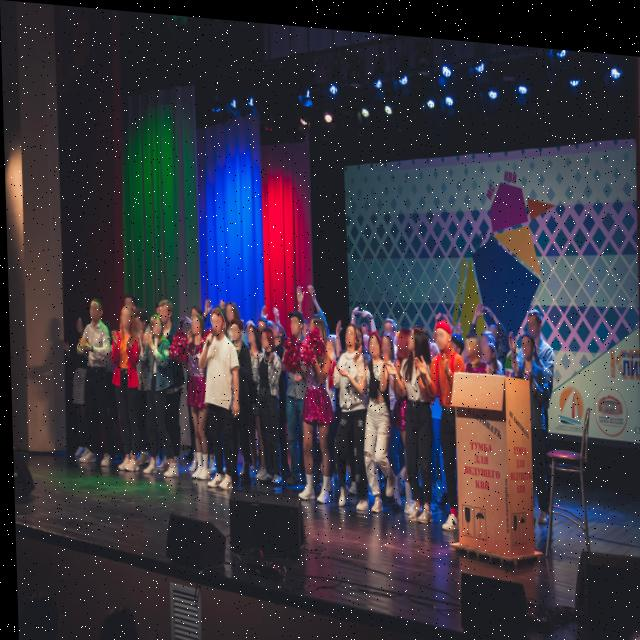Person: (429, 314, 466, 526), (71, 294, 112, 467), (514, 324, 550, 521), (330, 316, 368, 502), (295, 305, 330, 501), (278, 298, 313, 481), (117, 287, 152, 465), (359, 323, 392, 509), (400, 318, 430, 522), (245, 320, 283, 481), (137, 314, 172, 476), (511, 295, 556, 421), (205, 302, 233, 487), (111, 301, 140, 479), (178, 310, 207, 485), (224, 316, 252, 484), (132, 305, 155, 474), (66, 316, 92, 457), (239, 321, 261, 475), (459, 322, 480, 364), (480, 331, 497, 366), (223, 290, 237, 328), (186, 296, 205, 319), (377, 326, 394, 351), (380, 305, 398, 328), (120, 286, 136, 310), (355, 312, 369, 329)
